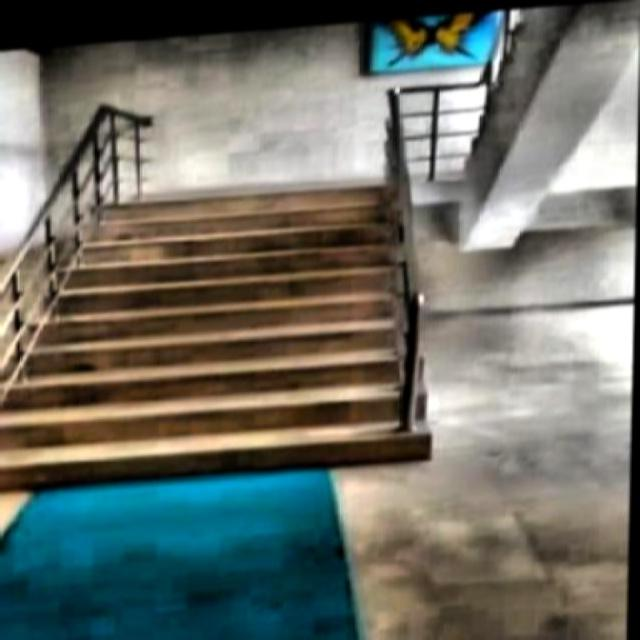stair: (2, 158, 450, 488)
